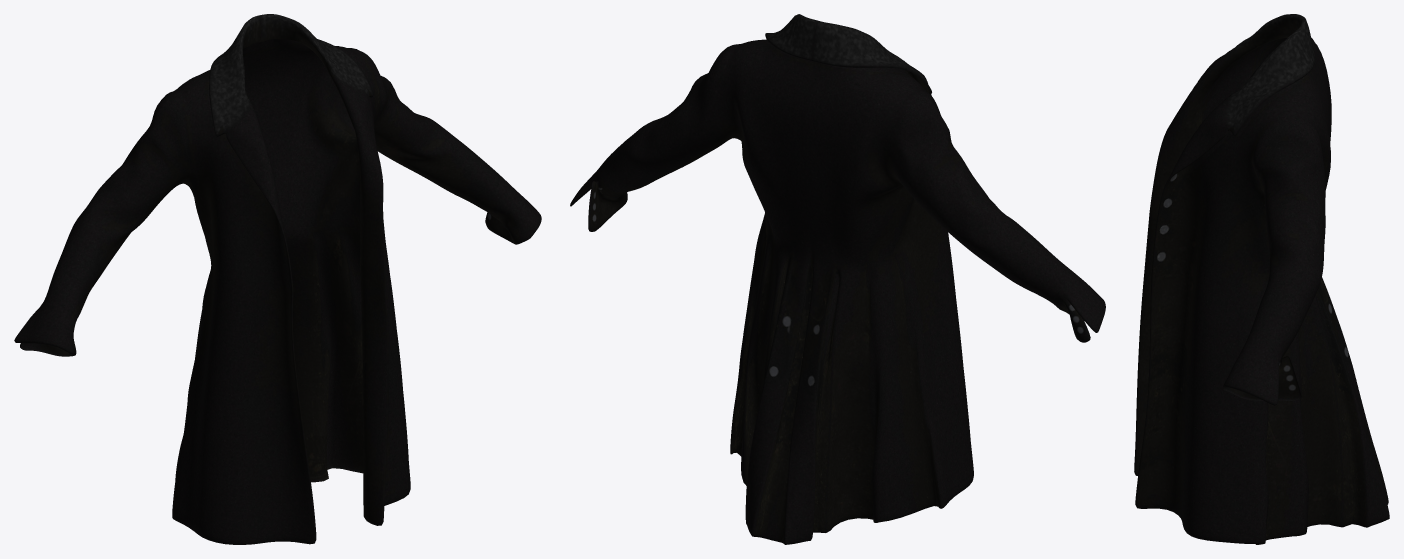
Rendered from dress2.glb.
3 views of the same model, side by side, from view 1: azimuth 30°, elevation 25°; view 2: azimuth 150°, elevation 25°; view 3: azimuth 270°, elevation 25° (orthographic). The views are drawn at different scales.
Parts seen in each view (by area): view 1: frockcoat_low.009; view 2: frockcoat_low.009; view 3: frockcoat_low.009.
Boxes of the visible parts, x1,y1,x2,y2 form: frockcoat_low.009: [14, 14, 541, 544]; frockcoat_low.009: [570, 14, 1105, 544]; frockcoat_low.009: [1134, 14, 1389, 544].
Bounding box in the file's own units: 119 × 107 × 50.27.
Materials: 1 (1 with a texture image).
